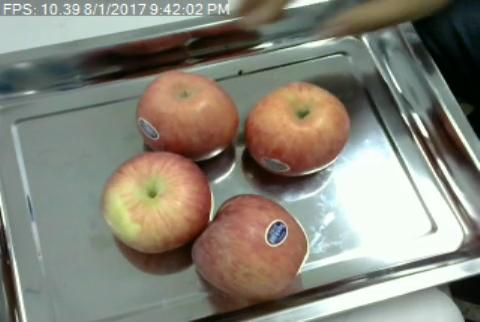apple: (192, 193, 308, 299), (102, 153, 212, 253), (243, 83, 352, 175), (136, 71, 238, 160)
